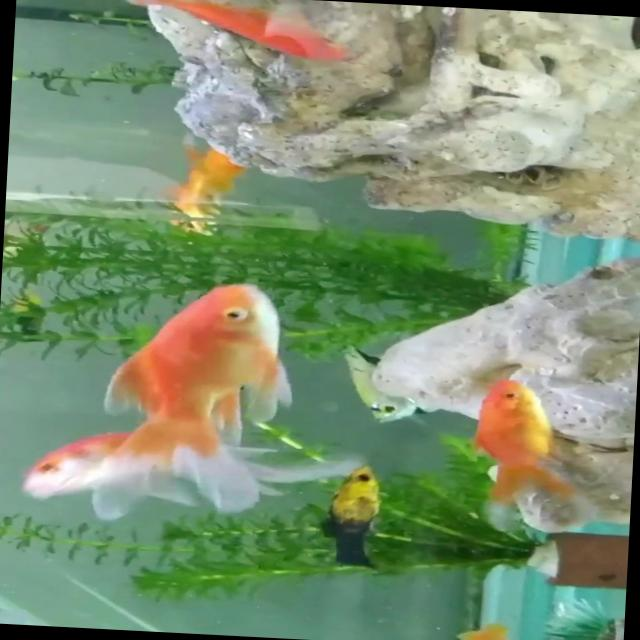GoldFish: (71, 272, 307, 530), (453, 364, 582, 516)
